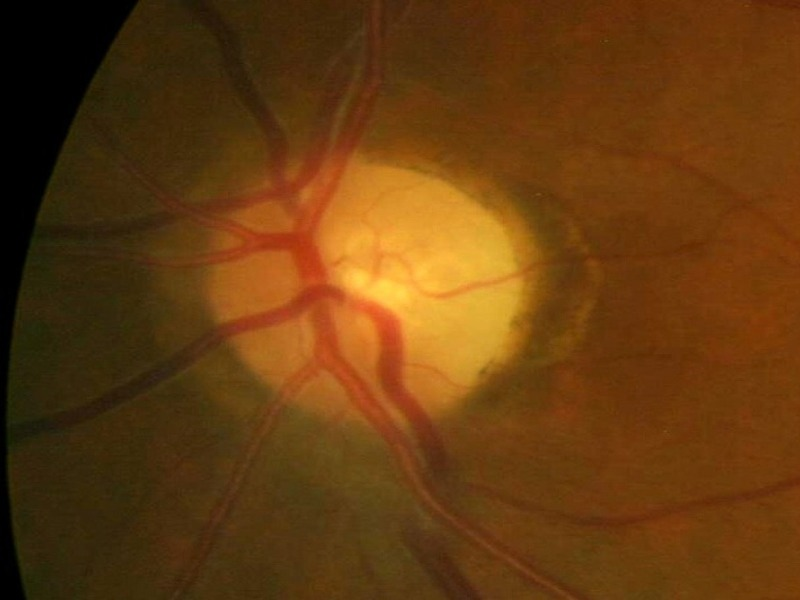Optic Cup: (341, 269, 414, 313)
Optic Disc: (205, 162, 526, 415)
